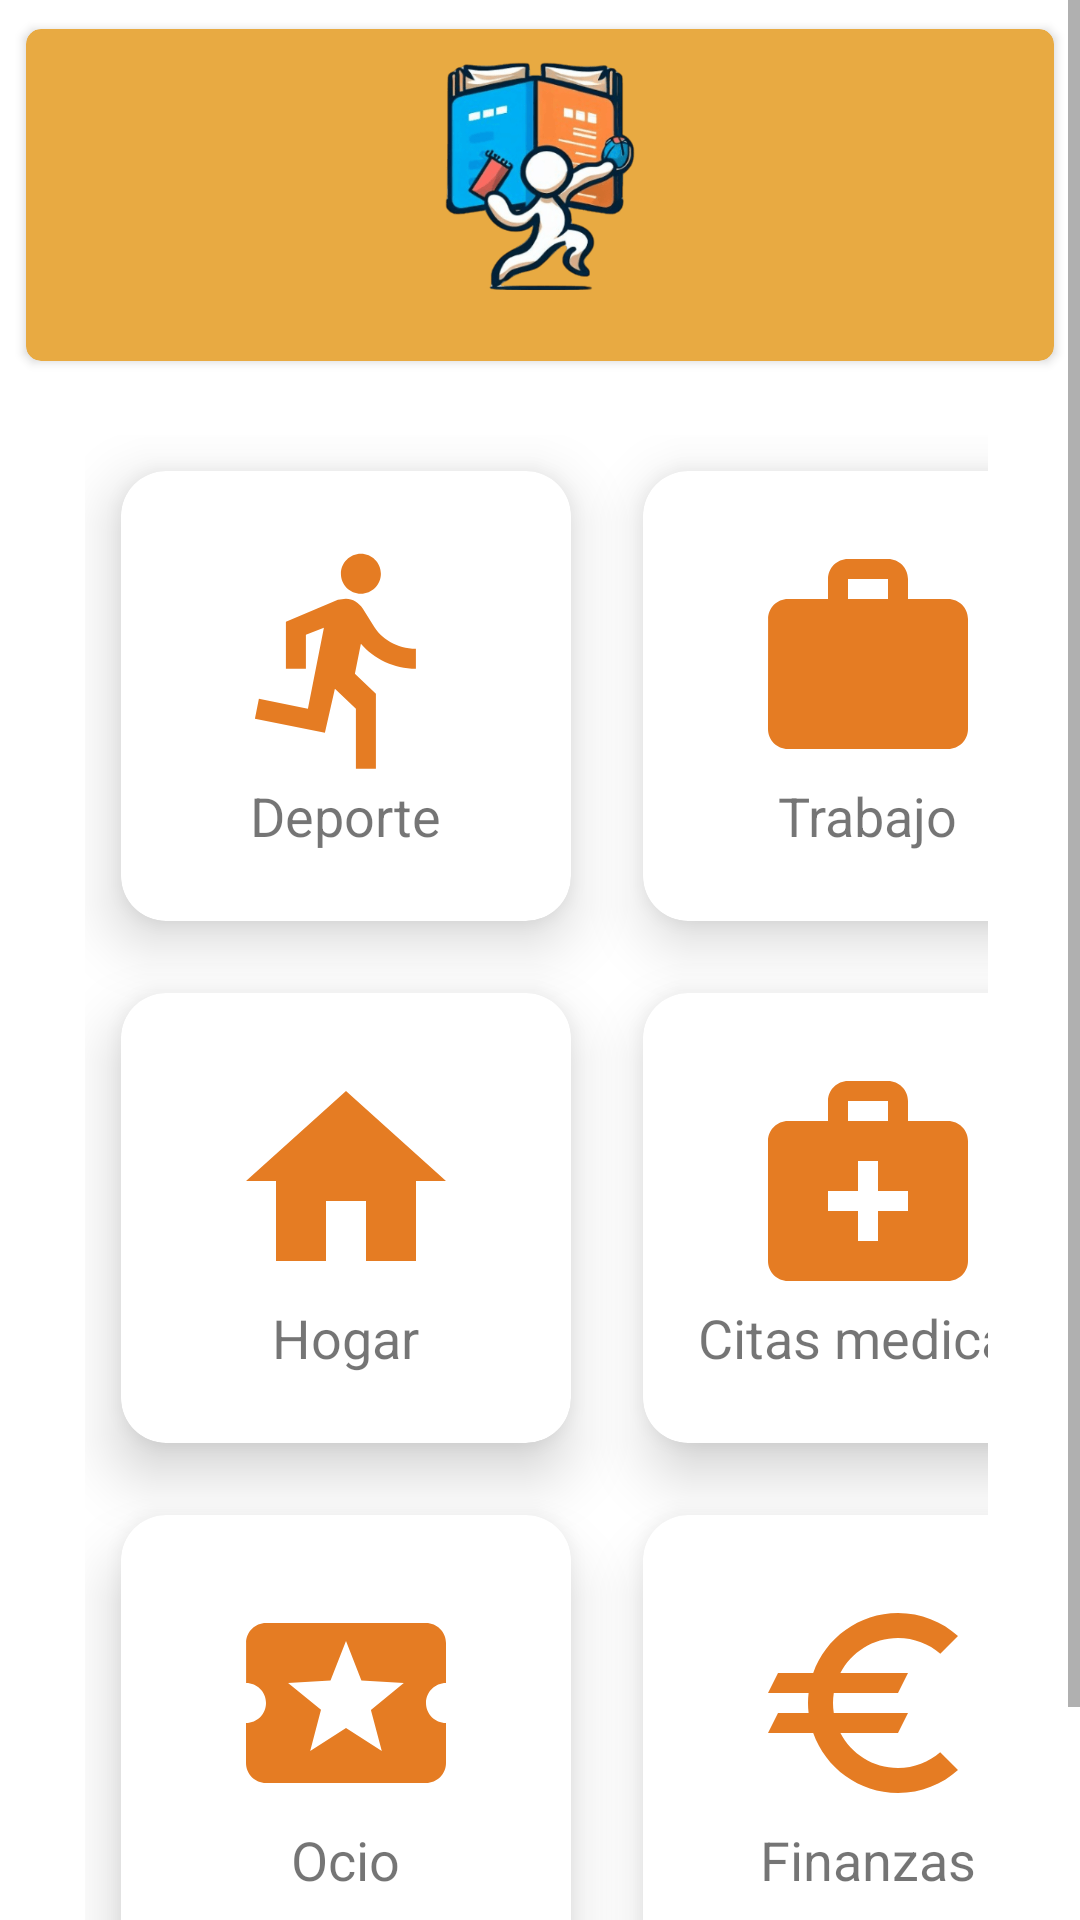

Named icons in this screenshot (1080 × 1920) and their bounding boxes, (x1, y1, x2, y2):
euro: (768, 1613, 958, 1793)
planing: (445, 63, 635, 290)
run: (255, 553, 416, 769)
